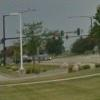Tree: (45, 23, 75, 58)
